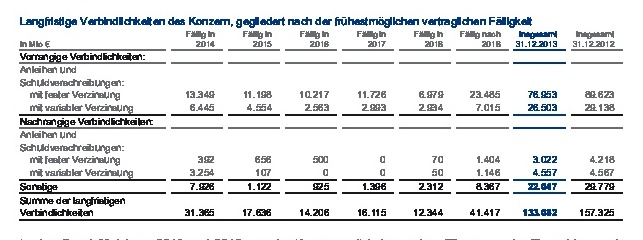table: (0, 0, 643, 240)
